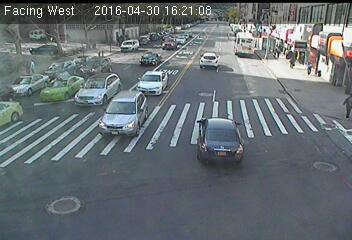neg: (258, 14, 273, 33), (199, 49, 212, 66), (133, 14, 144, 28), (213, 14, 223, 27), (253, 48, 263, 61), (233, 28, 243, 41), (129, 41, 137, 51)
pos: (284, 49, 301, 71), (339, 92, 351, 119), (302, 59, 316, 78), (26, 58, 40, 76)
